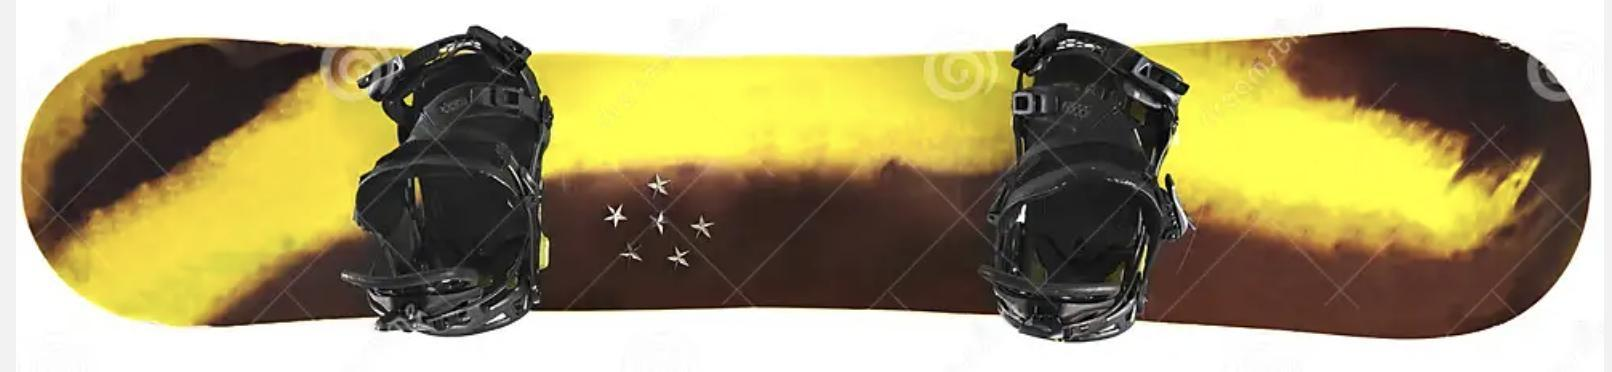Snowboard: (15, 7, 1595, 345)
